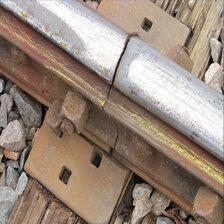railway-gap: (85, 28, 157, 92), (88, 98, 146, 167)
